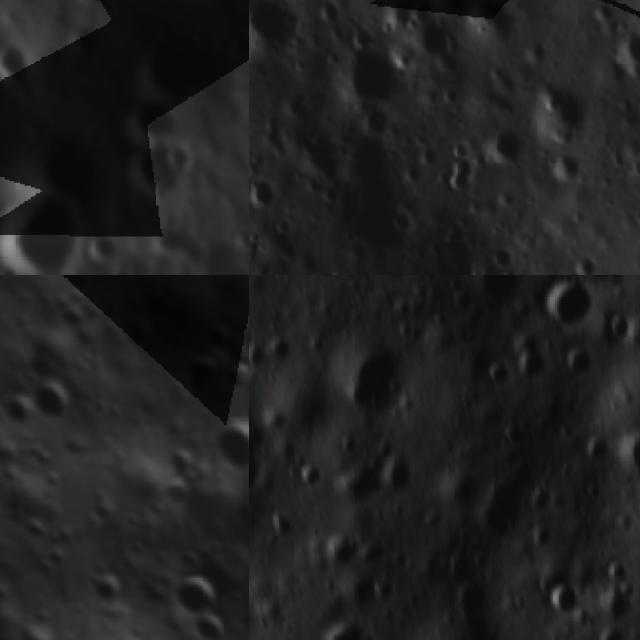crater: (0, 182, 81, 275), (326, 42, 406, 114), (31, 129, 105, 205), (344, 341, 405, 426), (197, 407, 249, 492), (163, 339, 229, 402), (249, 0, 312, 65), (533, 77, 593, 144), (144, 42, 201, 105), (415, 15, 471, 75), (170, 567, 223, 626), (473, 477, 528, 531), (31, 371, 82, 424), (547, 275, 596, 329), (123, 153, 185, 195), (368, 0, 424, 45), (121, 106, 187, 141), (225, 499, 249, 595), (479, 125, 527, 168), (608, 26, 640, 86), (249, 170, 288, 214), (472, 275, 523, 308), (0, 40, 31, 87), (183, 612, 235, 640), (517, 336, 552, 376), (202, 317, 237, 355), (378, 462, 417, 496), (452, 590, 494, 620), (325, 534, 359, 570), (616, 432, 640, 481), (88, 233, 121, 266), (580, 432, 612, 466), (73, 25, 104, 60), (550, 582, 580, 616), (607, 306, 636, 341), (292, 460, 326, 487), (451, 551, 482, 580), (608, 588, 634, 622), (315, 626, 378, 640), (606, 560, 638, 586), (159, 227, 192, 252), (488, 358, 516, 387), (498, 420, 528, 447), (532, 522, 558, 552), (269, 514, 298, 540), (568, 345, 592, 376), (249, 460, 269, 497), (228, 28, 249, 62), (170, 145, 199, 168), (272, 339, 297, 365), (533, 488, 556, 510), (44, 0, 75, 16), (249, 349, 267, 372), (133, 260, 154, 275), (74, 0, 111, 7)
